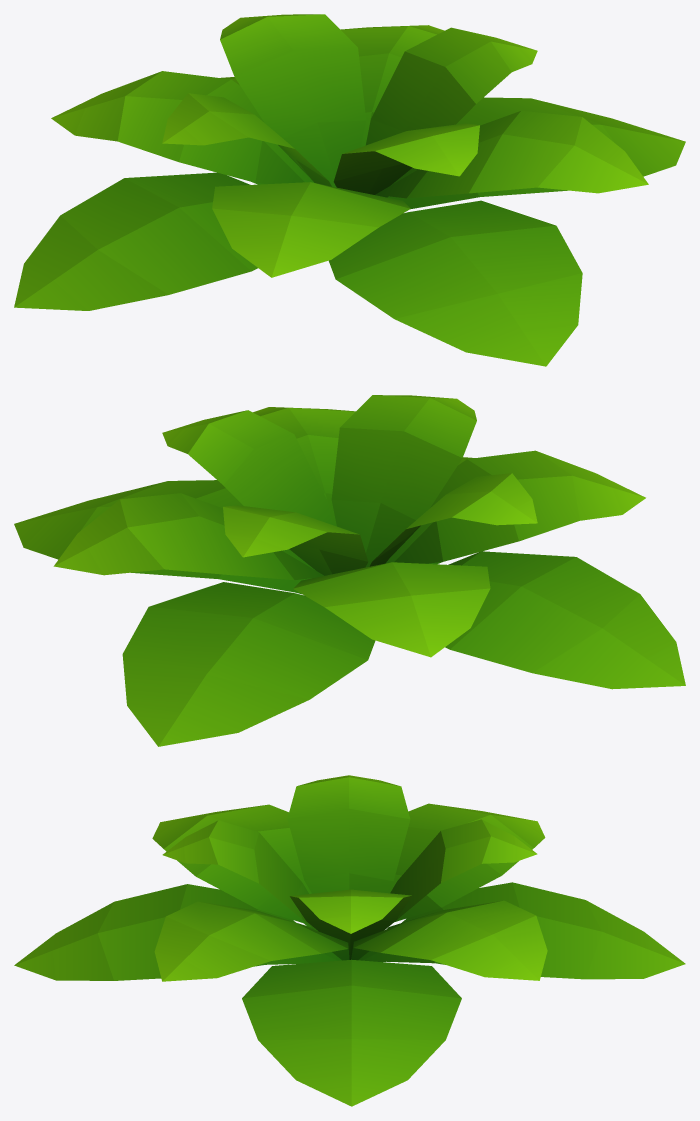
File: grass_8.glb
3 views of the same model, one above another, from view 1: azimuth 30°, elevation 25°; view 2: azimuth 150°, elevation 25°; view 3: azimuth 270°, elevation 25° (orthographic). The views are drawn at different scales.
Visible parts, largest first — view 1: grass_8; view 2: grass_8; view 3: grass_8.
Part boxes in pixels (x1,y1,x2,y2): grass_8: [14, 14, 685, 366]; grass_8: [14, 395, 685, 746]; grass_8: [14, 775, 685, 1106].
Bounding box in the file's own units: 0.7343 × 0.1567 × 0.7343.
Materials: 1 (1 with a texture image).
